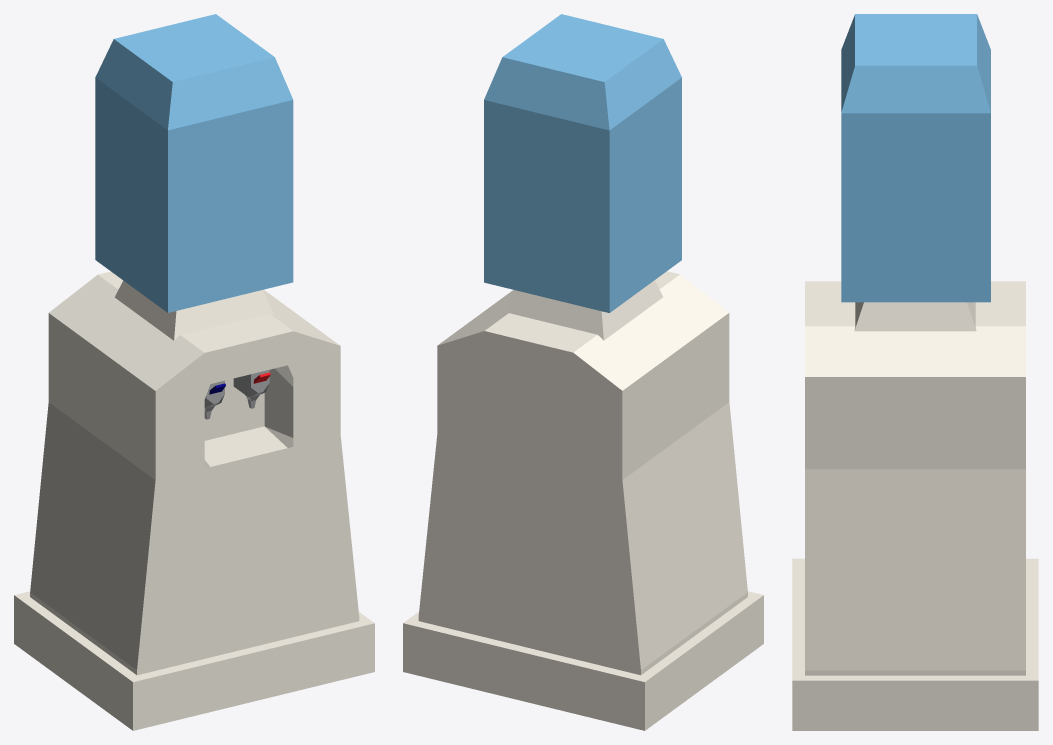
Rendered from WaterCooler.fbx.
3 views of the same model, side by side, from view 1: azimuth 30°, elevation 25°; view 2: azimuth 150°, elevation 25°; view 3: azimuth 270°, elevation 25° (orthographic). The views are drawn at different scales.
Parts seen in each view (by area): view 1: Cube, Cube.001, Cube.005; view 2: Cube, Cube.001; view 3: Cube, Cube.001.
Part boxes in pixels (x1=…): Cube: x1=14, y1=271, x2=374, y2=730; Cube.001: x1=95, y1=14, x2=293, y2=312; Cube.005: x1=233, y1=370, x2=269, y2=408; Cube: x1=403, y1=271, x2=763, y2=730; Cube.001: x1=484, y1=14, x2=681, y2=312; Cube: x1=792, y1=281, x2=1038, y2=730; Cube.001: x1=841, y1=14, x2=990, y2=302.
Size of the model in its own units: 409 by 986 by 349.
